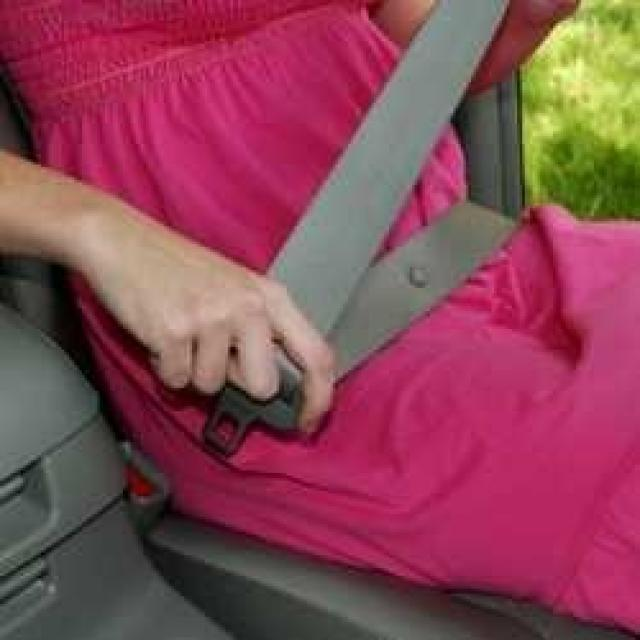seatbelt: (184, 2, 543, 442)
